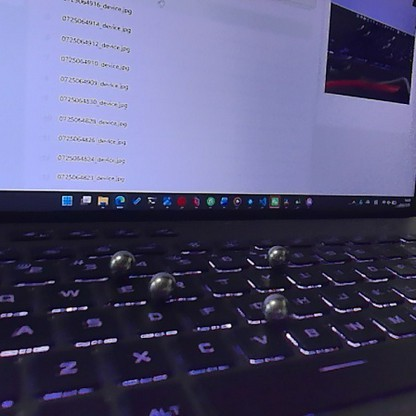ironball: (256, 291, 291, 325), (144, 269, 180, 301), (106, 249, 140, 278), (263, 242, 290, 271)
